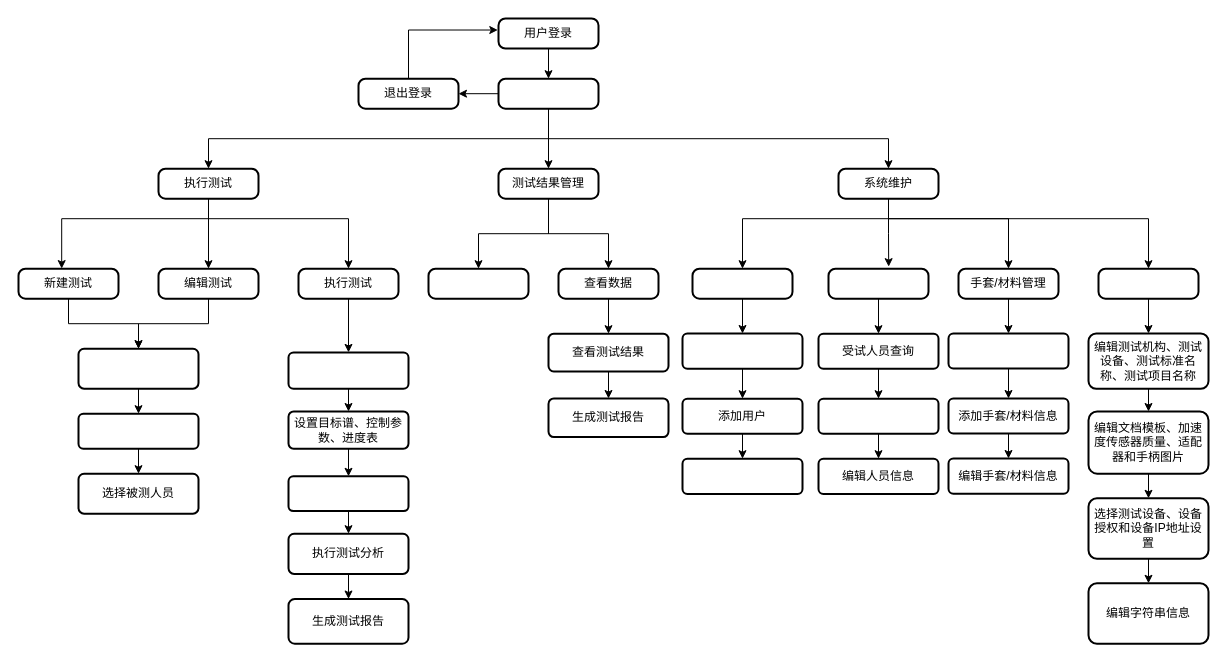
The diagram is 1226 pixels wide and 662 high, and some of its shapes have lost their labels. Each missing label, with the centre of its shape:
"受试人员管理" goes at point (878, 283).
"基本信息设置" goes at point (1148, 283).
"手套/材料查询" goes at point (1008, 350).
"查询测试" goes at point (478, 283).
"添加受试人员" goes at point (878, 415).
"用户查询" goes at point (742, 350).
"用户管理" goes at point (742, 283).
"编辑测试名称" goes at point (138, 368).
"编辑用户" goes at point (742, 475).
"设置分析参数" goes at point (348, 493).
"设置通道参数" goes at point (348, 370).
"进入主界面" goes at point (548, 93).
"选择被测手套/材料" goes at point (138, 430).
